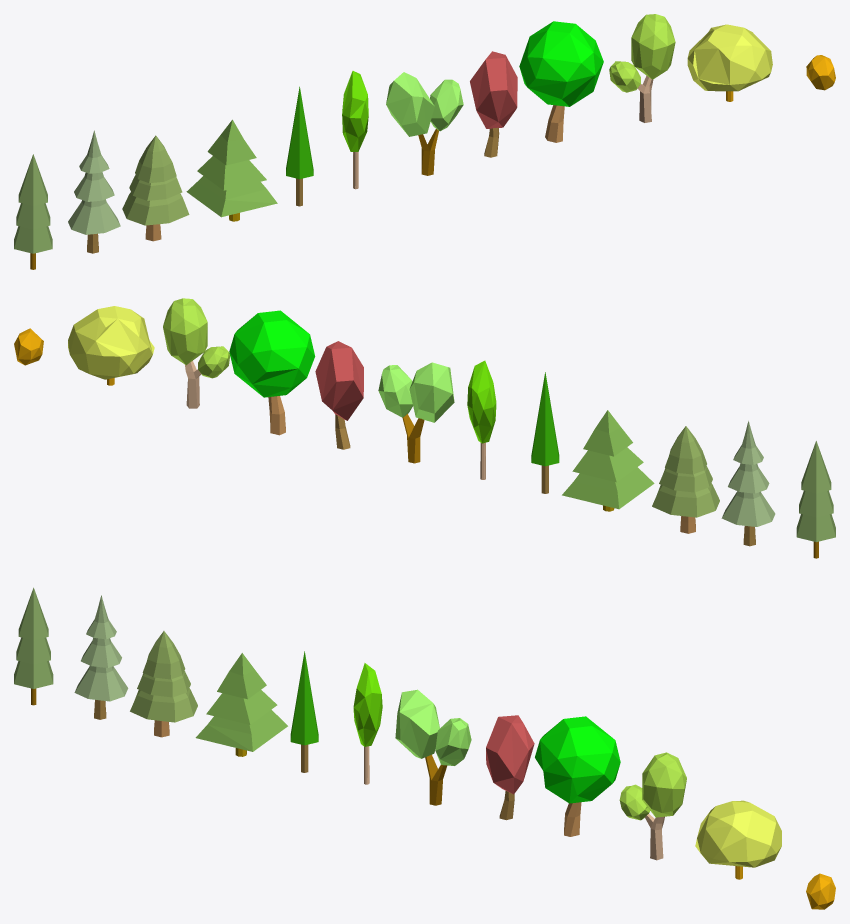
The picture shows the model from 3 angles, top to bottom: view 1: azimuth 30°, elevation 25°; view 2: azimuth 150°, elevation 25°; view 3: azimuth 330°, elevation 25°; orthographic projection.
Visible parts, largest first — view 1: Low poly trees big pack; view 2: Low poly trees big pack; view 3: Low poly trees big pack.
Boxes of the visible parts, x1,y1,x2,y2 form: Low poly trees big pack: (14,14,835,269); Low poly trees big pack: (14,298,835,558); Low poly trees big pack: (14,587,835,909).
Bounding box in the file's own units: 36.15 × 5.25 × 3.57.
